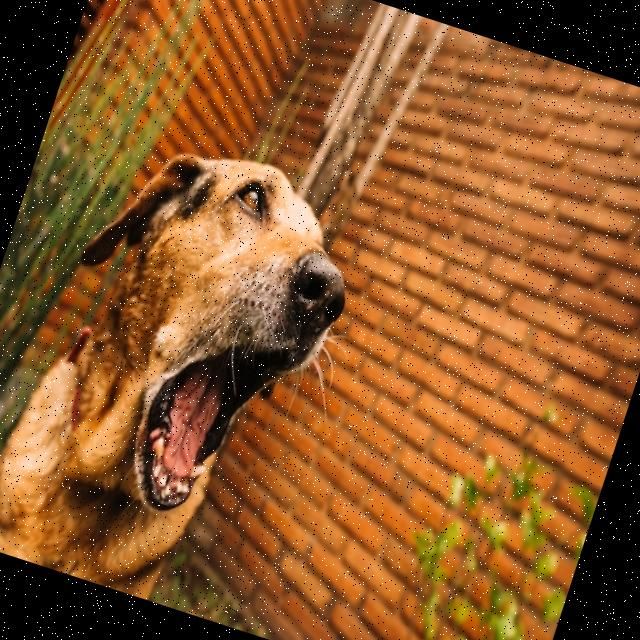Dog: (0, 108, 380, 631)
